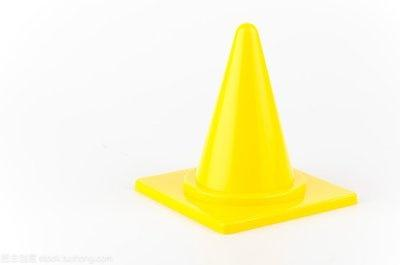cone_barrel: (182, 28, 307, 211)
